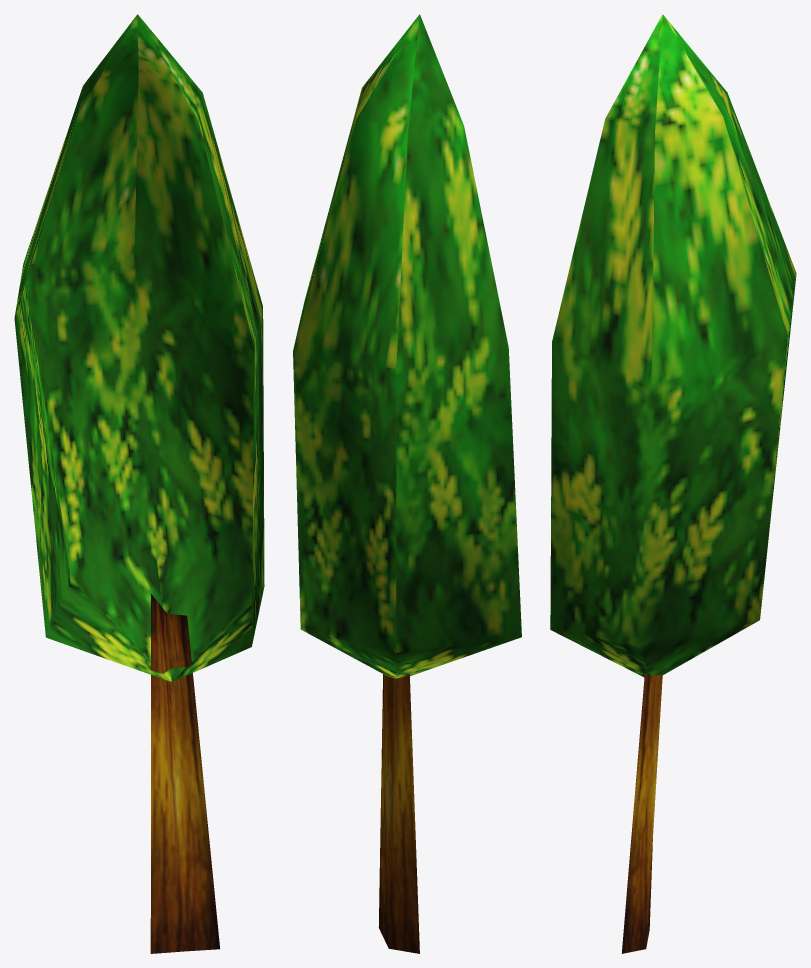
File: tree_01.fbx
The picture shows the model from 3 angles, left to right: view 1: azimuth 30°, elevation 25°; view 2: azimuth 150°, elevation 25°; view 3: azimuth 270°, elevation 25°; orthographic projection. The views are drawn at different scales.
Visible parts, largest first — view 1: tree_01; view 2: tree_01; view 3: tree_01.
Part boxes in pixels (<box>): tree_01: <box>14,14,264,953</box>; tree_01: <box>293,14,521,953</box>; tree_01: <box>550,14,796,953</box>.
Size of the model in its own units: 195 by 777 by 189.
